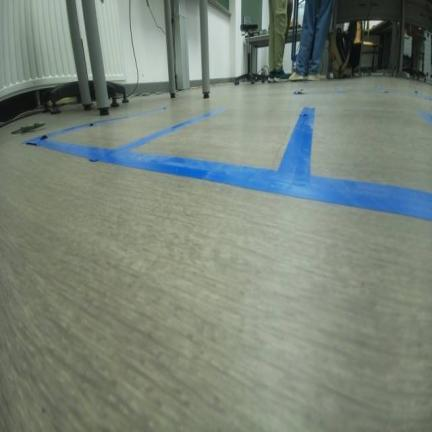place: (272, 101, 431, 219), (105, 103, 314, 190), (21, 105, 230, 161)
